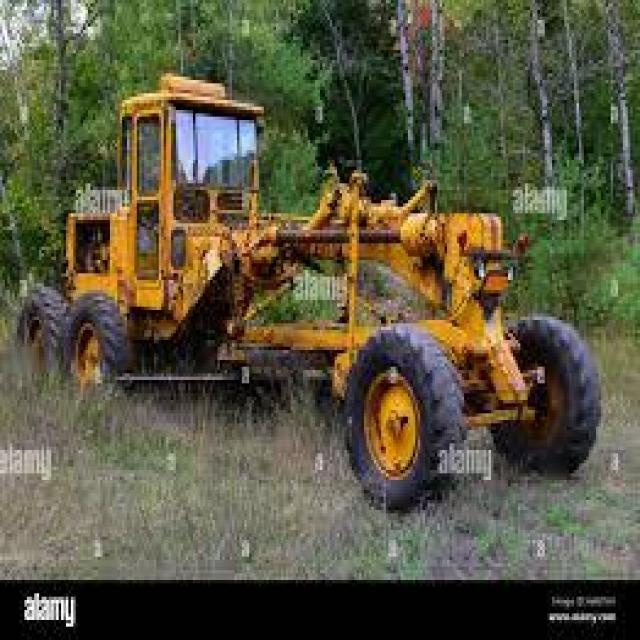Grader: (15, 47, 596, 513)
